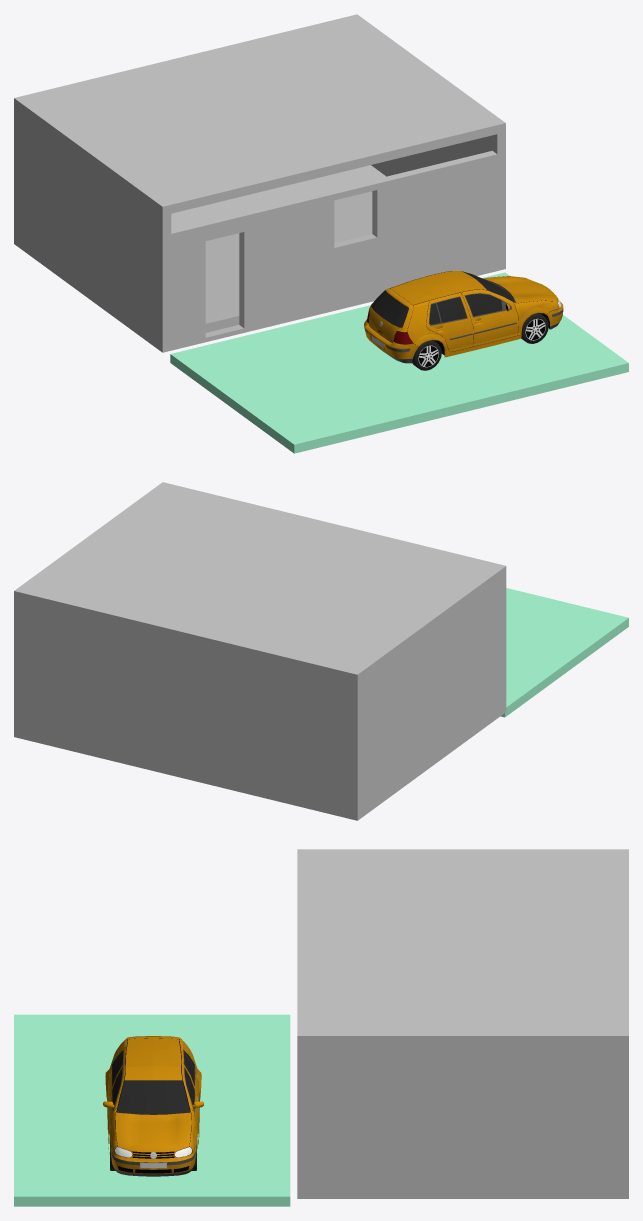
The picture shows the model from 3 angles, top to bottom: view 1: azimuth 30°, elevation 25°; view 2: azimuth 150°, elevation 25°; view 3: azimuth 270°, elevation 25°; orthographic projection. The views are drawn at different scales.
Visible parts, largest first — view 1: App::Slab_0, ElementExtension::WallAxisVolume_1, App::Footing_0, ElementExtension::WallAxisVolume_2, App::Element_0, App::Slab_2, ElementExtension::Opening_0, App::Slab_1, ElementExtension::WallAxisVolume_3, ElementExtension::Opening_1, ElementExtension::WallAxisVolume_0; view 2: App::Slab_0, ElementExtension::WallAxisVolume_0, ElementExtension::WallAxisVolume_2, App::Footing_0, App::Slab_1, ElementExtension::WallAxisVolume_1; view 3: App::Slab_0, ElementExtension::WallAxisVolume_3, App::Footing_0, App::Element_0, App::Slab_1, ElementExtension::WallAxisVolume_0, ElementExtension::WallAxisVolume_1.
Boxes of the visible parts, bbox=[...] form: App::Slab_0: bbox=[14, 14, 505, 215]; ElementExtension::WallAxisVolume_1: bbox=[157, 150, 505, 348]; App::Footing_0: bbox=[170, 272, 628, 453]; ElementExtension::WallAxisVolume_2: bbox=[14, 108, 171, 347]; App::Element_0: bbox=[364, 271, 563, 370]; App::Slab_2: bbox=[171, 165, 385, 332]; ElementExtension::Opening_0: bbox=[206, 232, 243, 336]; App::Slab_1: bbox=[14, 240, 505, 352]; ElementExtension::WallAxisVolume_3: bbox=[371, 132, 505, 264]; ElementExtension::Opening_1: bbox=[334, 190, 376, 247]; ElementExtension::WallAxisVolume_0: bbox=[14, 107, 18, 242]; App::Slab_0: bbox=[14, 482, 506, 683]; ElementExtension::WallAxisVolume_0: bbox=[14, 600, 362, 816]; ElementExtension::WallAxisVolume_2: bbox=[349, 575, 506, 815]; App::Footing_0: bbox=[500, 588, 628, 717]; App::Slab_1: bbox=[14, 708, 506, 820]; ElementExtension::WallAxisVolume_1: bbox=[501, 595, 506, 710]; App::Slab_0: bbox=[297, 849, 628, 1045]; ElementExtension::WallAxisVolume_3: bbox=[297, 1046, 628, 1193]; App::Footing_0: bbox=[14, 1014, 290, 1206]; App::Element_0: bbox=[103, 1036, 203, 1176]; App::Slab_1: bbox=[297, 1194, 628, 1198]; ElementExtension::WallAxisVolume_0: bbox=[618, 1046, 628, 1193]; ElementExtension::WallAxisVolume_1: bbox=[297, 1068, 308, 1193].
Bounding box in the file's own units: 80 × 111 × 34.5.
